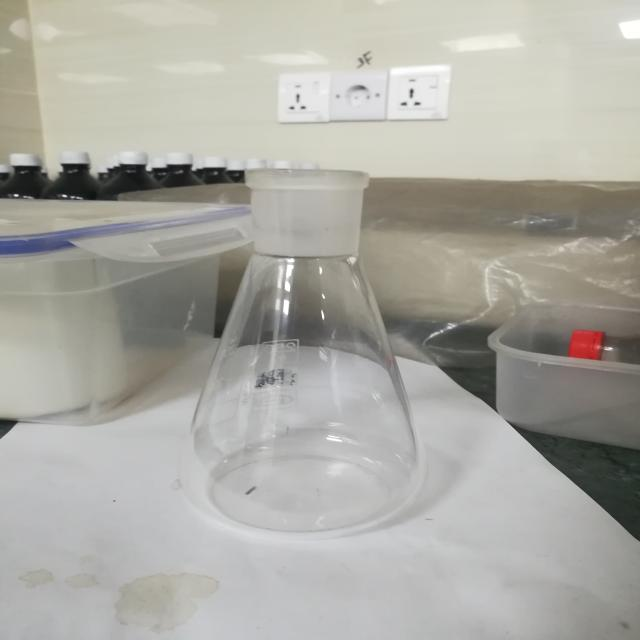Conical_Flask: (192, 128, 459, 551)
